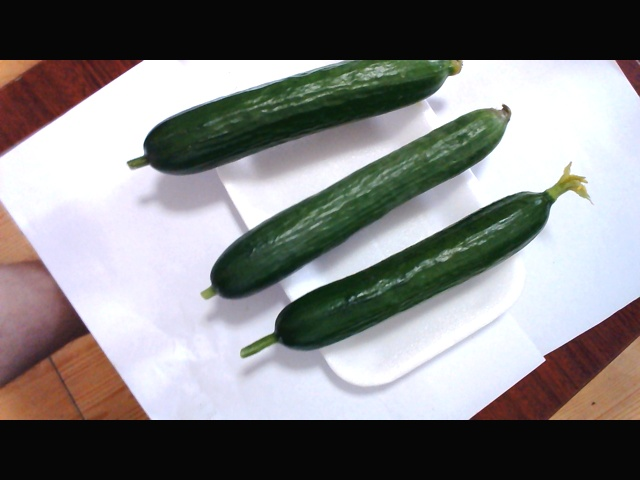cucumber: (195, 148, 587, 333), (96, 49, 500, 155)
